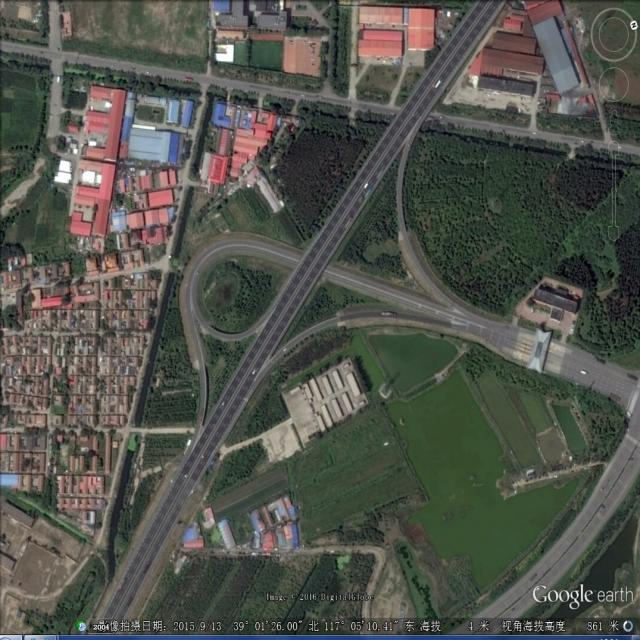overpass: (177, 124, 473, 447)
